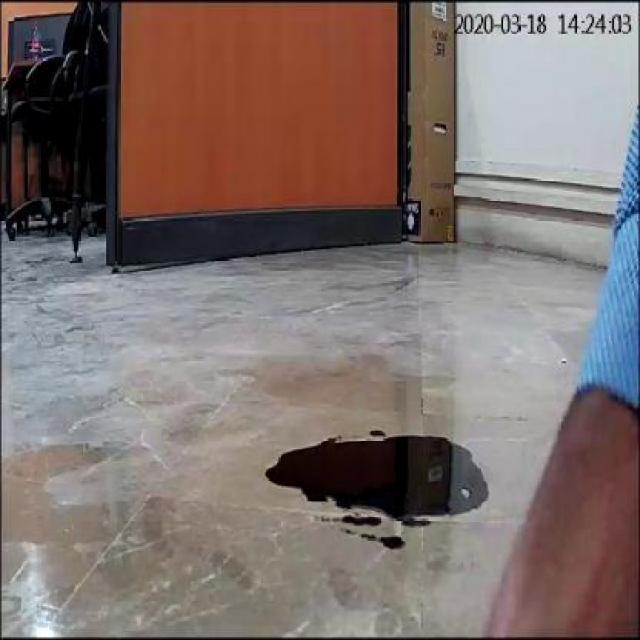spill: (260, 430, 491, 524)
